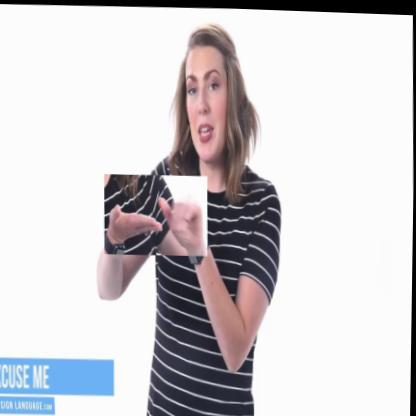ExcuseMe: (103, 171, 209, 256)
